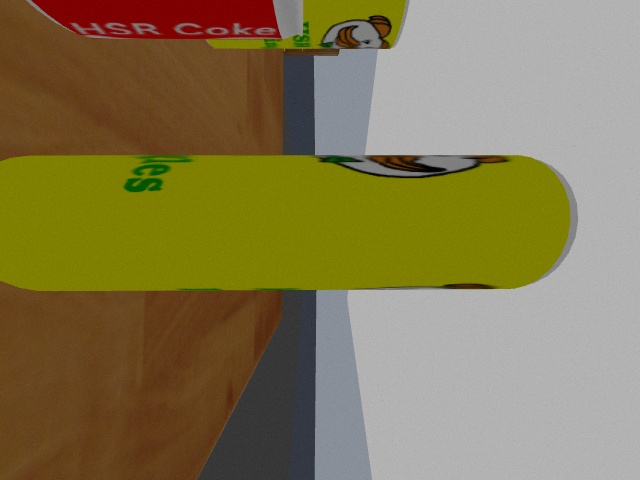chipsdose_gelb: (1, 155, 579, 291), (206, 1, 412, 50)
